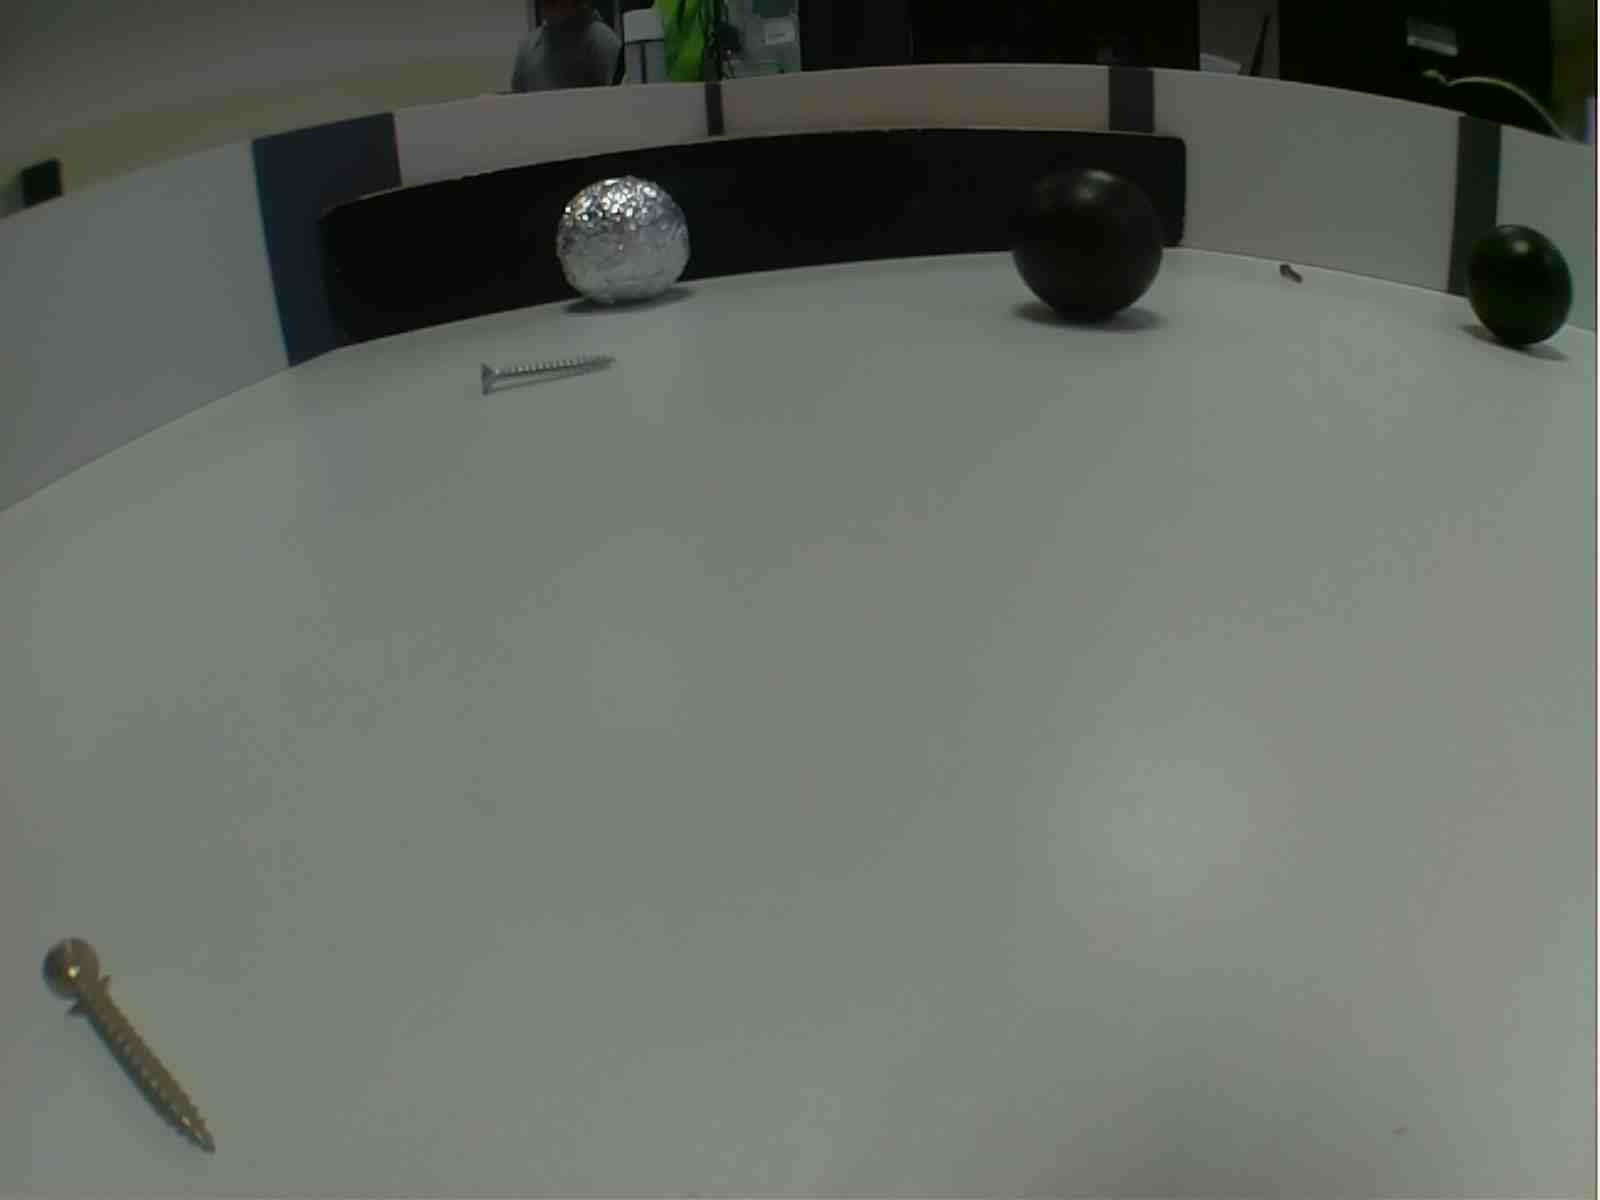bianca: (558, 176, 690, 304)
nera: (1010, 161, 1167, 323), (1460, 224, 1577, 352)
